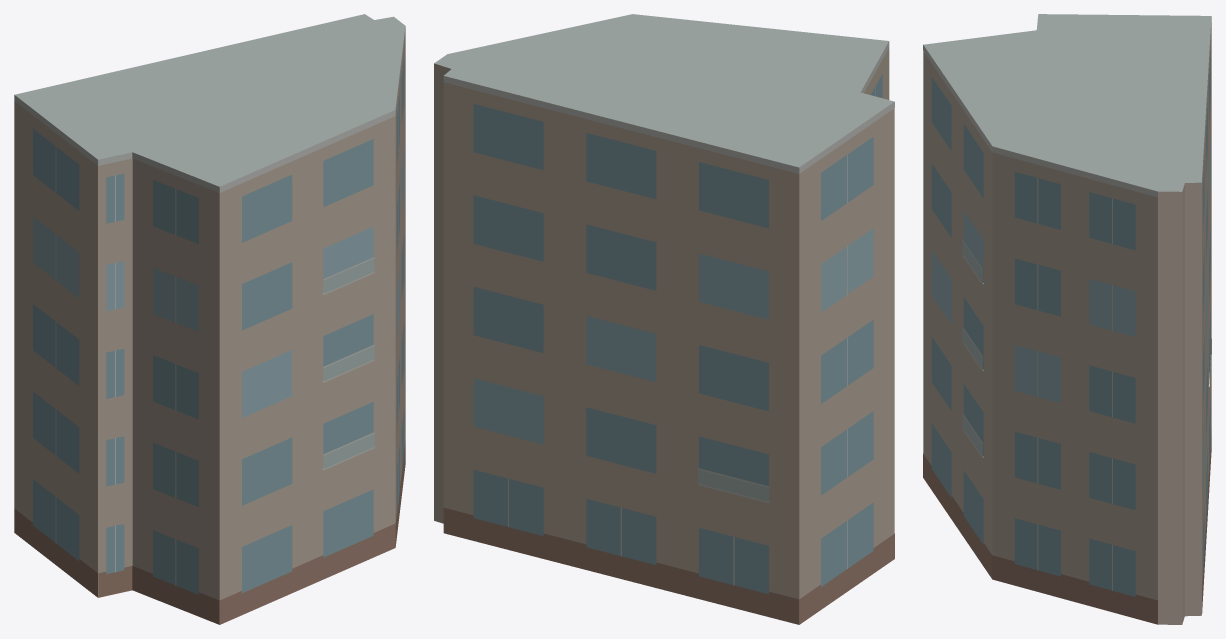
The model's file is survey-upis-32903246.glb.
3 renders of one model, left to right at view 1: azimuth 30°, elevation 25°; view 2: azimuth 150°, elevation 25°; view 3: azimuth 270°, elevation 25°, orthographic. The views are drawn at different scales.
Visible parts, largest first — view 1: survey-upis-32903246.tmp; view 2: survey-upis-32903246.tmp; view 3: survey-upis-32903246.tmp.
Boxes of the visible parts, x1=… form: survey-upis-32903246.tmp: x1=14, y1=14, x2=405, y2=624; survey-upis-32903246.tmp: x1=434, y1=14, x2=894, y2=624; survey-upis-32903246.tmp: x1=923, y1=14, x2=1211, y2=624.
Bounding box in the file's own units: 15.32 × 17.4 × 10.51.
